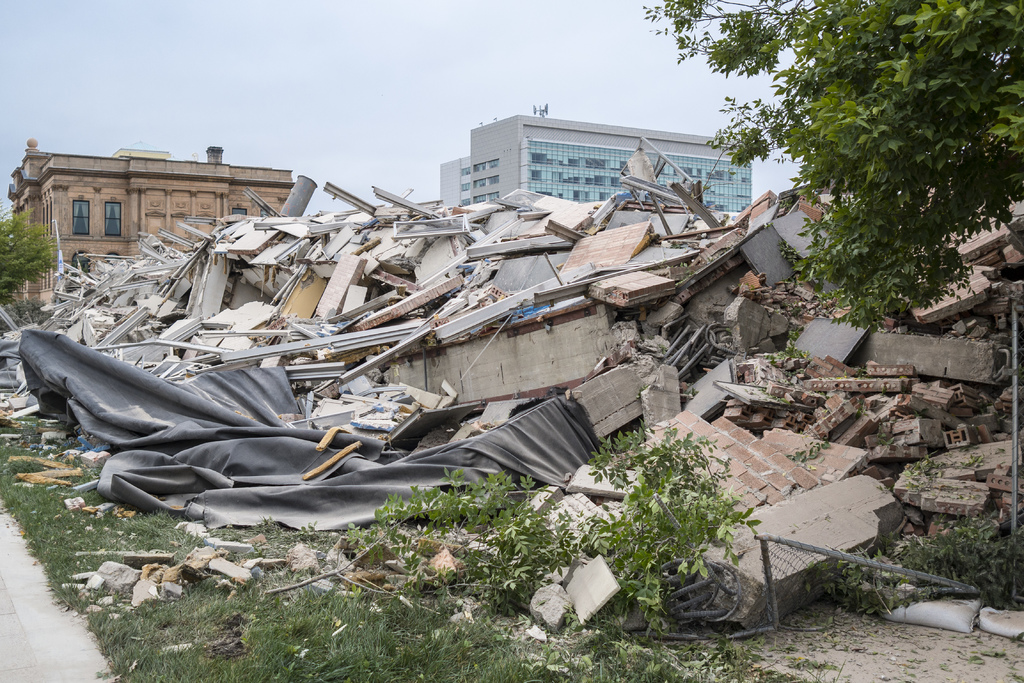Tree: (638, 0, 1024, 328), (0, 198, 59, 307)
